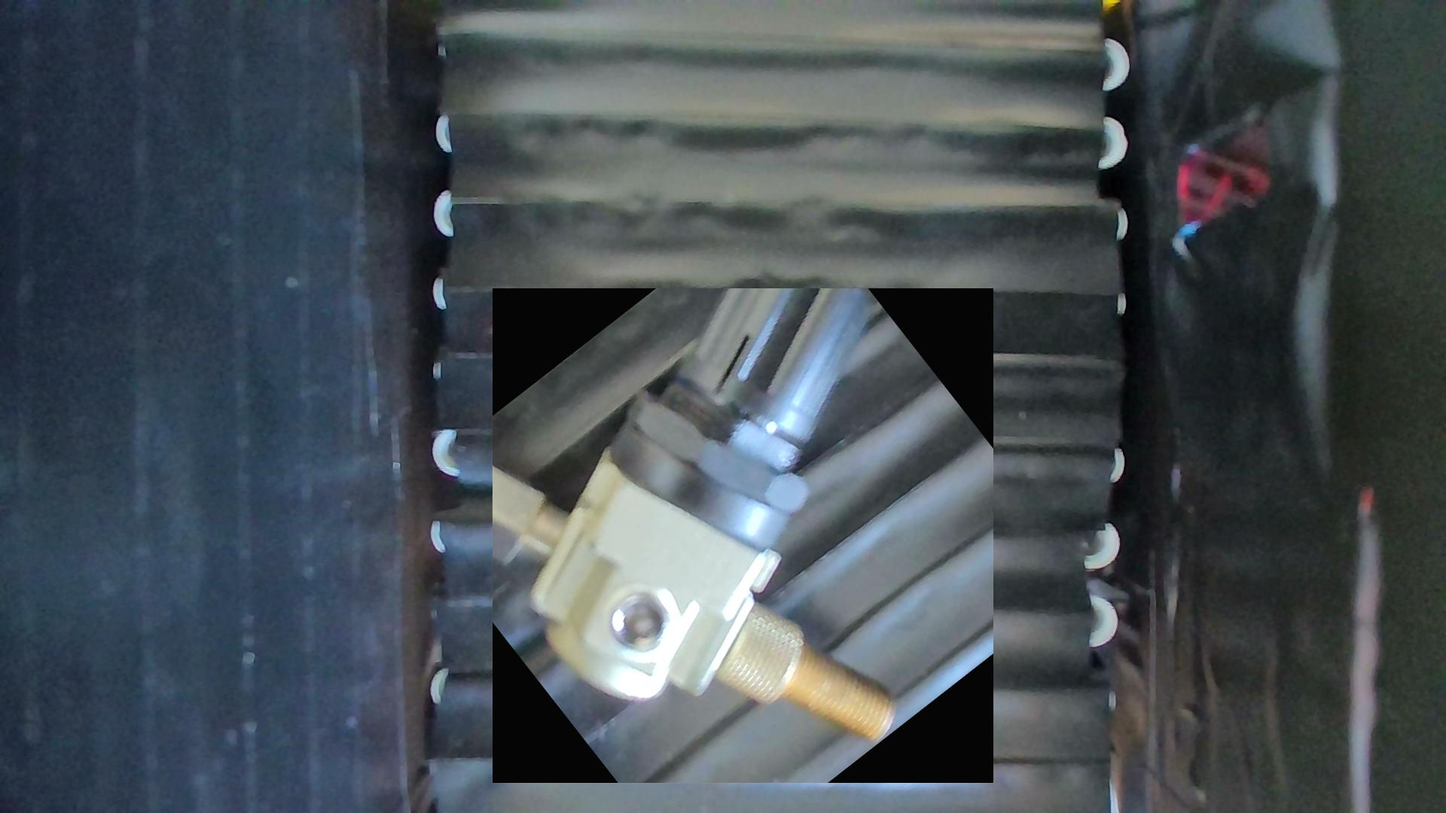regulator: (491, 289, 993, 784)
